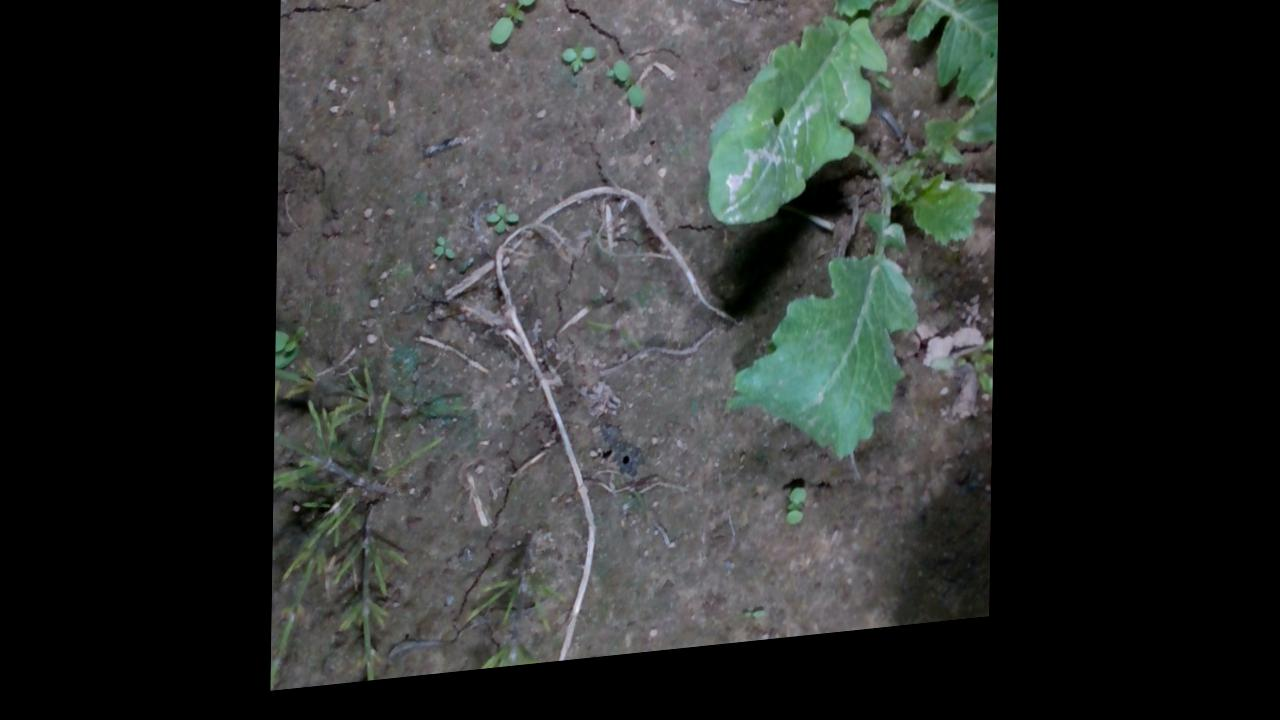weed: (491, 0, 542, 57), (613, 66, 650, 125), (487, 209, 522, 246), (561, 56, 599, 89), (787, 501, 811, 544), (431, 242, 460, 269), (741, 622, 770, 636)
